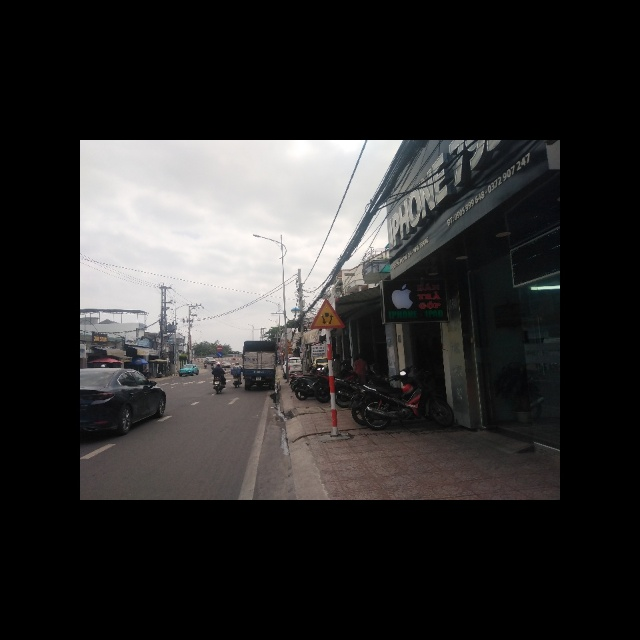Đường đôi: (309, 297, 345, 329)
